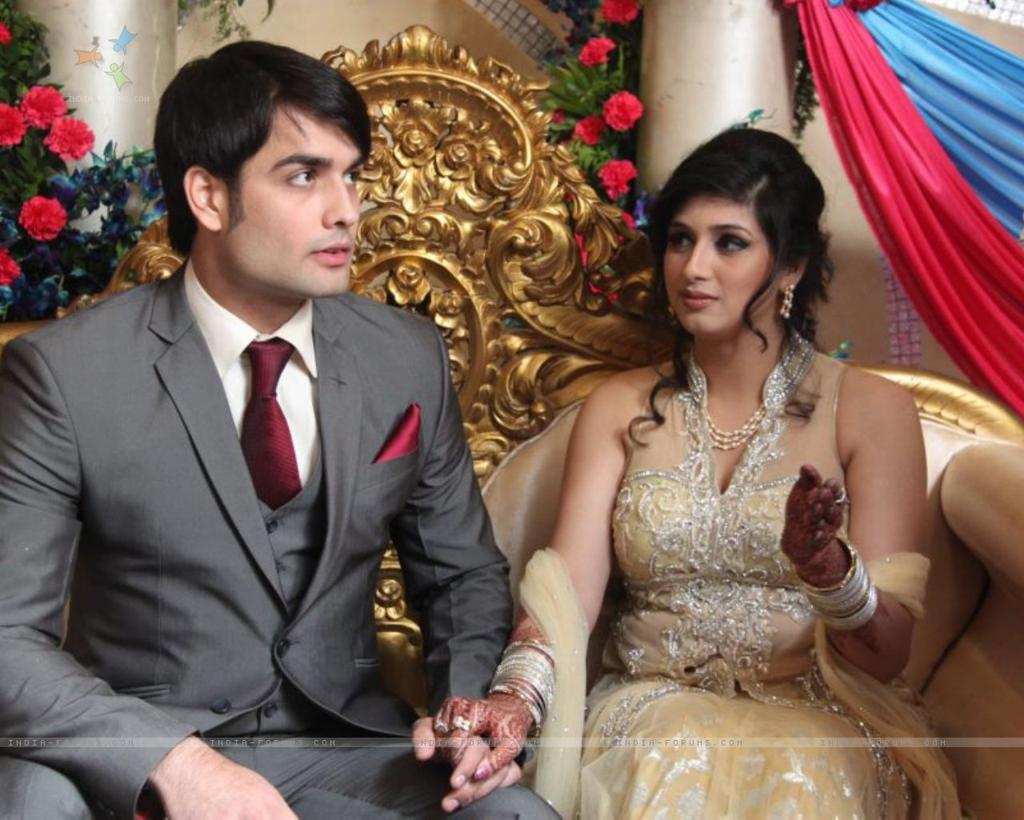face: (236, 104, 364, 294), (662, 208, 764, 336)
